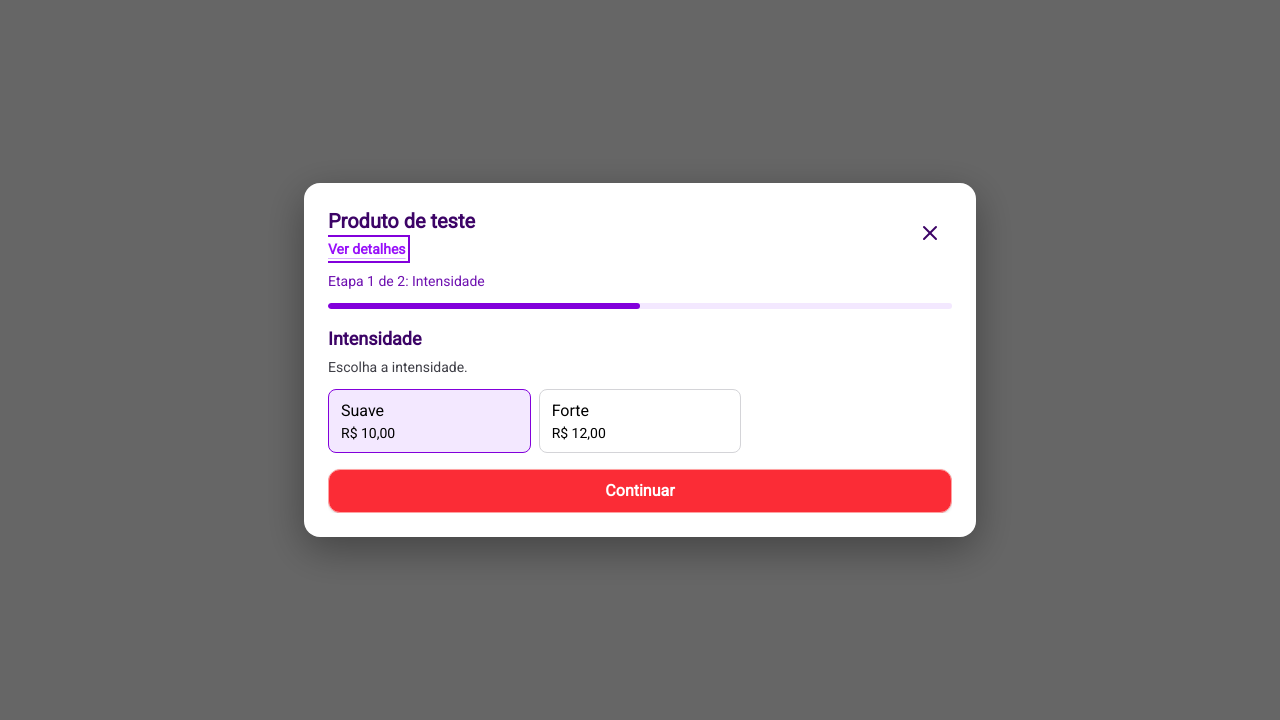
QuickAddDialog › should add a quick product with its selected option and quantity
Click the button "Forte R$ 12,00" at (640, 421), box x1=539 y1=389 x2=741 y2=453
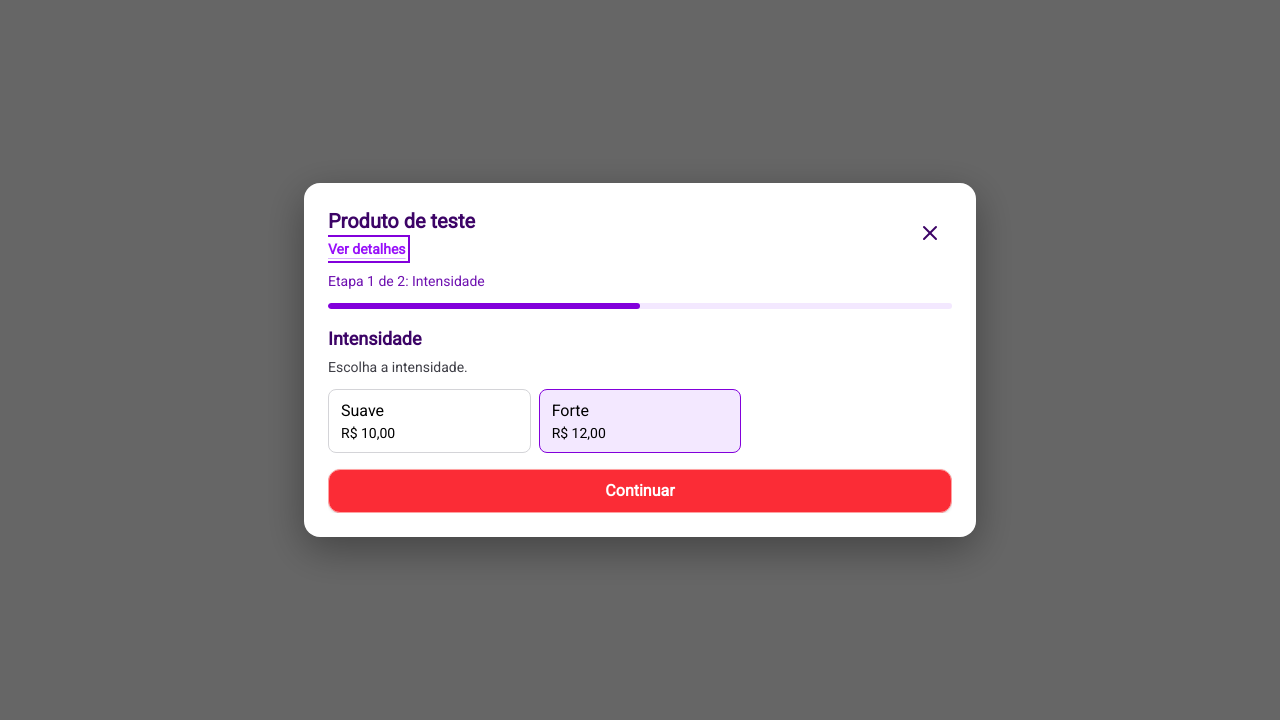
Click the button "Continuar" at (640, 491), box x1=328 y1=469 x2=952 y2=513
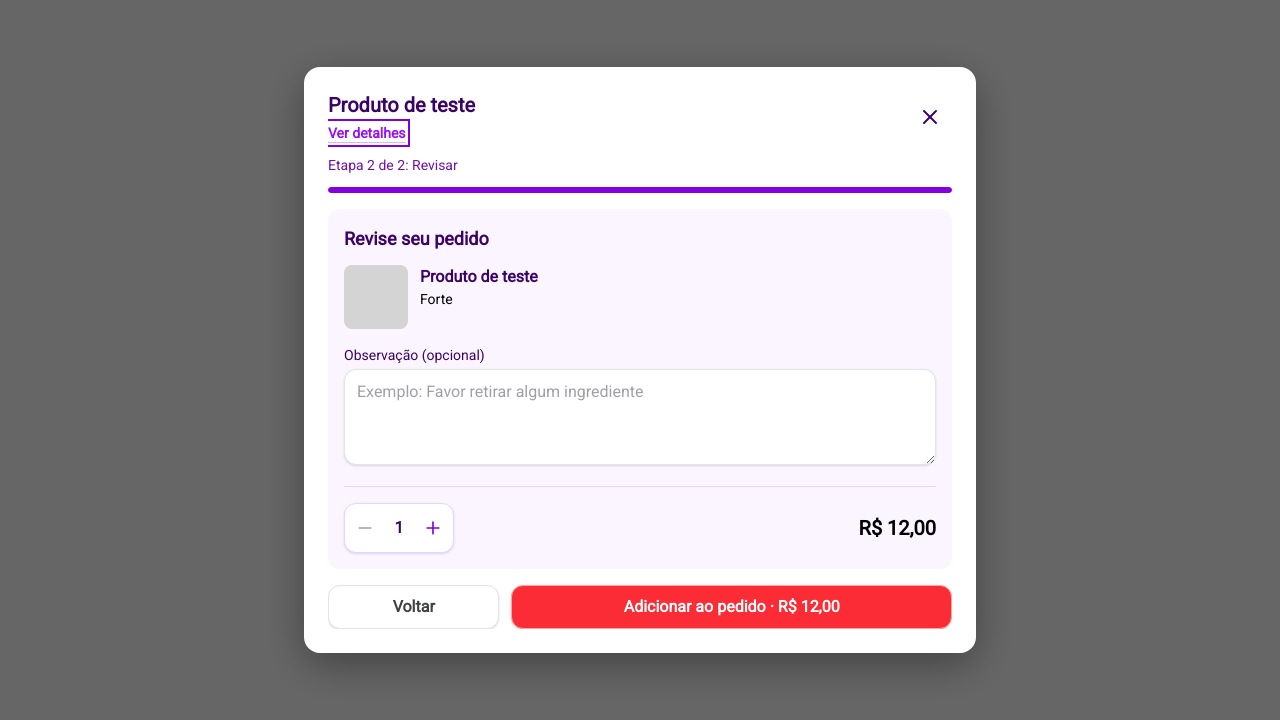
Click the button "Adicionar ao pedido · R$ 12,00" at (732, 607), box x1=512 y1=585 x2=952 y2=629
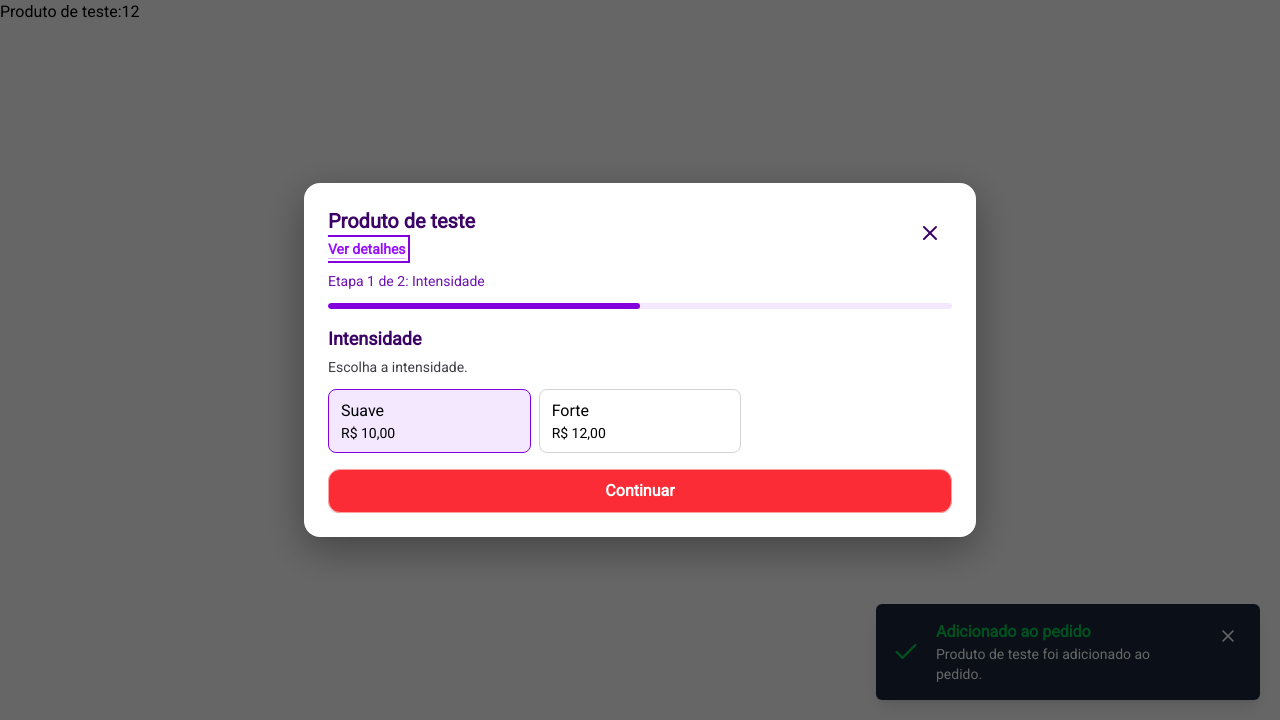
Now the text with test id "cart-probe" reads "Produto de teste:12", box x1=0 y1=2 x2=140 y2=21
